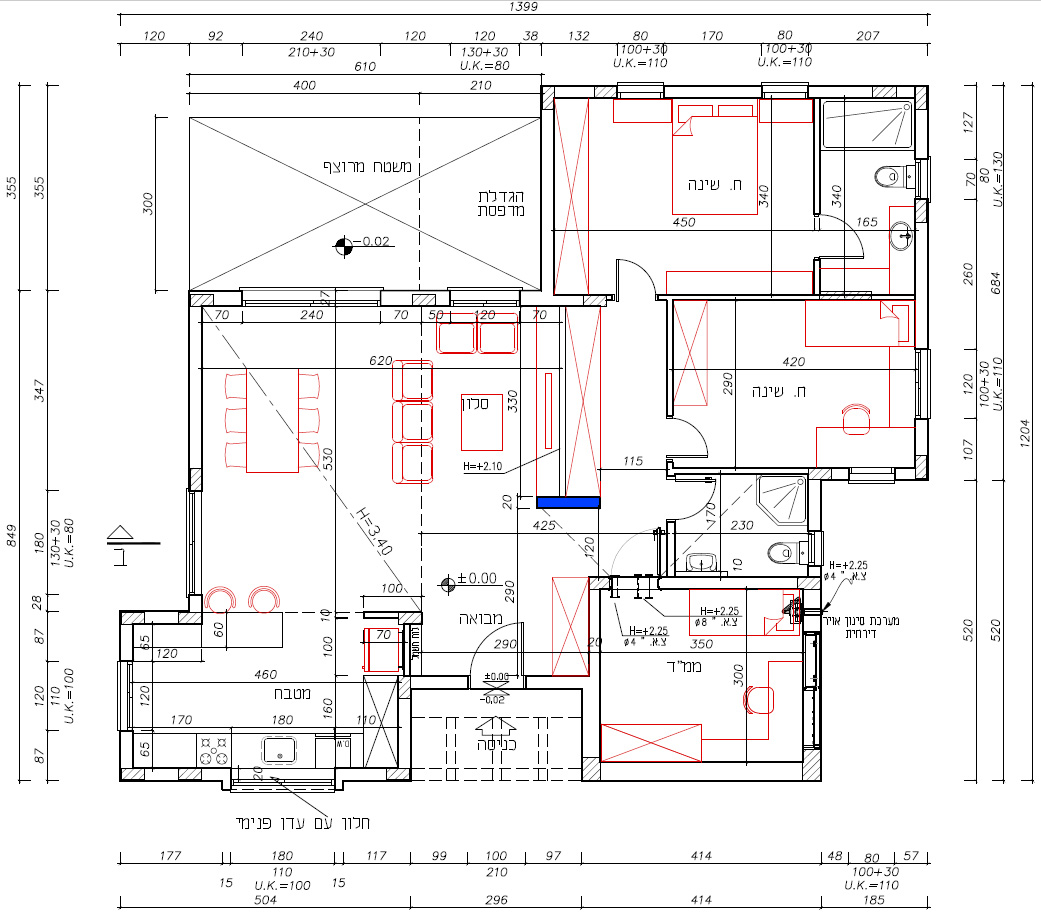door: (466, 619, 529, 673), (823, 215, 866, 263), (675, 415, 716, 465), (611, 252, 658, 292)
window: (240, 286, 381, 308), (230, 769, 336, 795), (184, 490, 202, 595), (449, 286, 521, 309), (913, 349, 932, 420), (117, 660, 133, 731), (803, 632, 821, 690), (616, 81, 664, 101), (761, 81, 809, 101), (850, 466, 897, 483), (913, 161, 931, 203), (808, 531, 826, 568)
